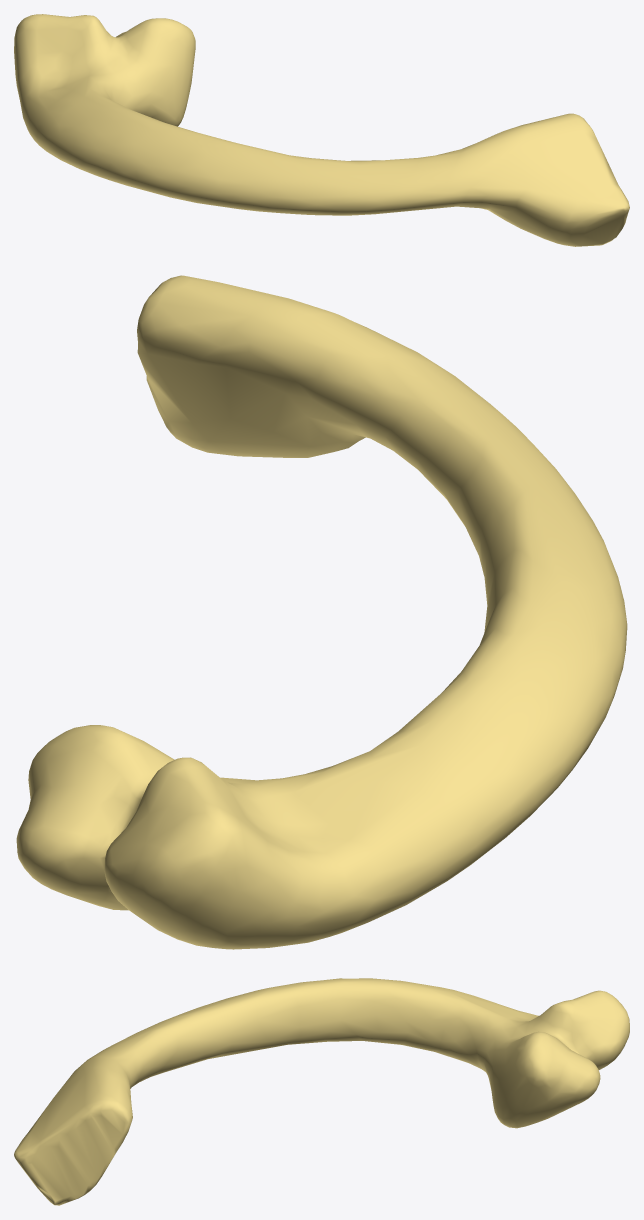
The picture shows the model from 3 angles, top to bottom: view 1: azimuth 30°, elevation 25°; view 2: azimuth 150°, elevation 25°; view 3: azimuth 270°, elevation 25°; orthographic projection. The views are drawn at different scales.
Parts seen in each view (by area): view 1: ZA_999b833e95b39dbc; view 2: ZA_999b833e95b39dbc; view 3: ZA_999b833e95b39dbc.
Part boxes in pixels (x1=…): ZA_999b833e95b39dbc: x1=14, y1=14, x2=629, y2=246; ZA_999b833e95b39dbc: x1=16, y1=275, x2=627, y2=949; ZA_999b833e95b39dbc: x1=14, y1=978, x2=629, y2=1205.
Bounding box in the file's own units: 0.0241 × 0.00779 × 0.0367.
